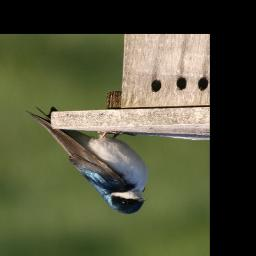Swallow: (25, 100, 150, 216)
